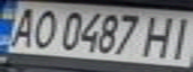0: (54, 8, 84, 52)
4: (78, 10, 103, 54)
7: (112, 10, 148, 57)
8: (96, 10, 124, 55)
A: (3, 3, 42, 48)
H: (136, 12, 181, 60)
I: (160, 14, 193, 61)
O: (24, 7, 60, 51)
